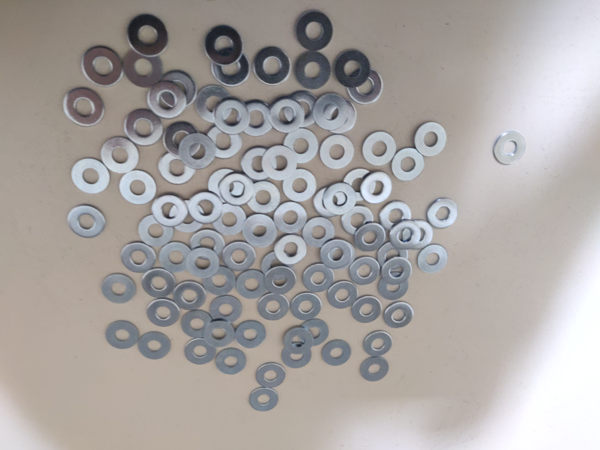circle: (128, 14, 167, 57), (64, 87, 105, 127), (83, 47, 123, 87), (204, 25, 243, 66), (124, 48, 163, 88), (212, 48, 251, 87), (147, 81, 187, 119), (124, 109, 164, 147), (296, 11, 333, 51), (70, 158, 111, 194), (101, 136, 140, 173), (159, 71, 198, 108), (255, 47, 291, 86), (295, 52, 331, 89), (313, 93, 349, 130), (164, 123, 201, 159), (213, 99, 250, 135), (196, 86, 232, 123), (178, 134, 216, 169), (347, 67, 383, 103), (239, 100, 275, 136), (335, 50, 370, 87), (120, 170, 157, 205), (208, 168, 243, 205), (283, 128, 319, 163), (68, 206, 106, 239), (158, 152, 196, 185), (320, 134, 355, 169), (270, 98, 305, 133), (188, 191, 223, 226), (363, 131, 397, 167), (152, 193, 188, 227), (284, 91, 318, 127), (263, 145, 297, 180), (207, 125, 242, 159), (322, 100, 358, 133), (243, 214, 277, 248), (212, 203, 247, 236), (139, 213, 174, 246), (242, 148, 278, 180), (415, 122, 447, 157), (392, 148, 425, 181), (284, 168, 317, 201), (248, 181, 281, 214), (324, 182, 356, 216), (344, 168, 376, 202), (191, 229, 225, 261), (101, 274, 137, 304), (494, 132, 526, 165), (275, 202, 308, 234), (187, 247, 220, 279), (122, 243, 156, 274), (361, 173, 393, 205), (275, 234, 307, 266), (314, 187, 347, 218), (342, 205, 374, 236), (209, 295, 242, 325), (106, 320, 139, 350), (223, 241, 256, 271), (427, 198, 458, 229), (174, 281, 206, 311), (303, 263, 335, 293), (417, 244, 448, 274), (390, 221, 421, 251), (355, 222, 386, 252), (403, 221, 434, 251), (304, 218, 335, 248), (381, 200, 411, 231), (160, 243, 192, 272), (147, 299, 180, 327), (142, 270, 175, 298), (350, 257, 381, 286), (382, 257, 413, 286), (265, 266, 296, 295), (262, 252, 293, 281), (182, 311, 213, 340), (258, 293, 290, 321), (203, 320, 235, 348), (138, 332, 170, 360), (204, 267, 236, 295), (325, 241, 355, 270), (327, 281, 358, 309), (378, 242, 409, 270), (281, 341, 312, 369), (291, 293, 322, 321), (322, 240, 351, 269), (236, 270, 265, 299), (379, 272, 409, 300), (236, 320, 266, 348), (283, 327, 314, 354), (185, 339, 217, 365), (322, 340, 352, 367), (300, 320, 330, 347), (216, 348, 246, 375), (383, 302, 414, 328), (363, 331, 393, 357), (257, 363, 286, 389), (353, 297, 382, 323), (361, 357, 389, 382), (249, 389, 279, 412)
